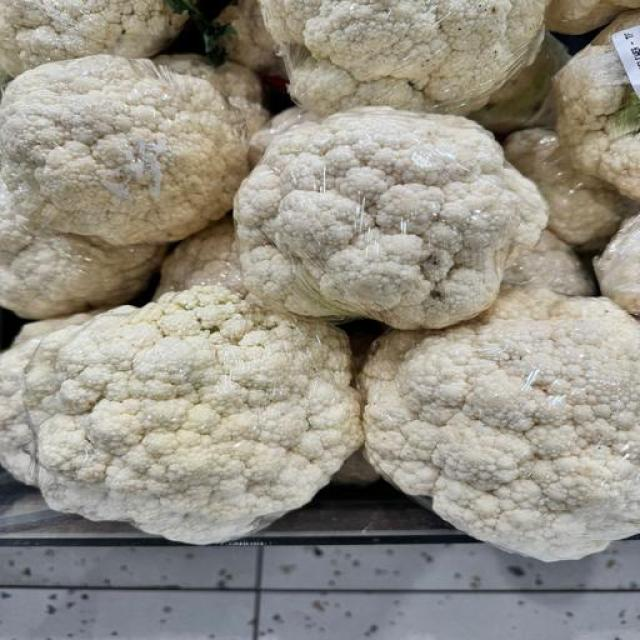organic: (1, 1, 640, 640), (167, 0, 233, 66), (613, 88, 639, 137), (167, 0, 197, 13)
